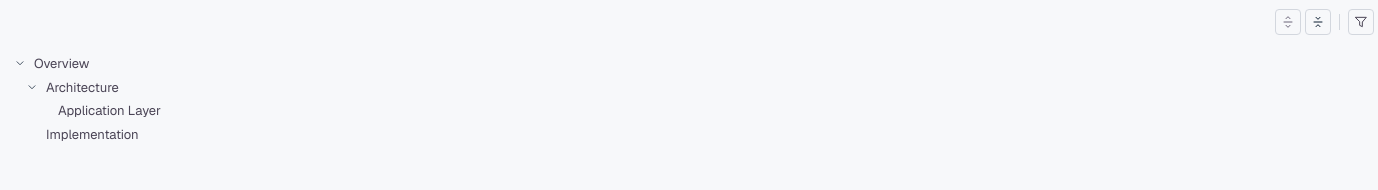
Test: 过滤命中（§10.7：按 title 子串并自动展开命中项） › 命中计数如实报「N of M」，零命中带上查询词而不是「没有内容」
This screenshot has width=1378, height=190.
Later steps or results of the test are not shown.
Click the button named "Filter": (1361, 22) [1348,9,1374,35]
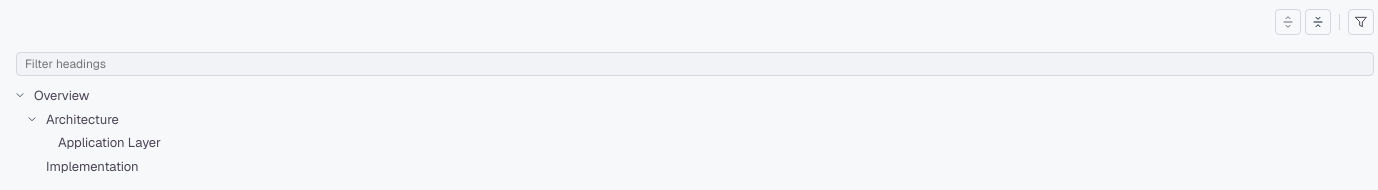
In the field with placeholder "Filter headings": (695, 64) [16,52,1374,76], type "arch"
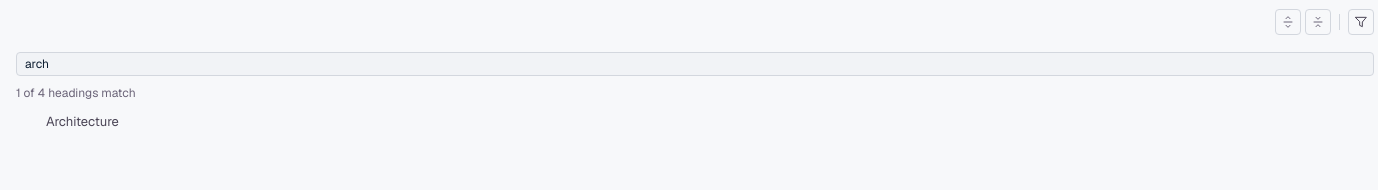
expect the text "1 of 4 headings match" is shown: met, box [16,85,136,101]
